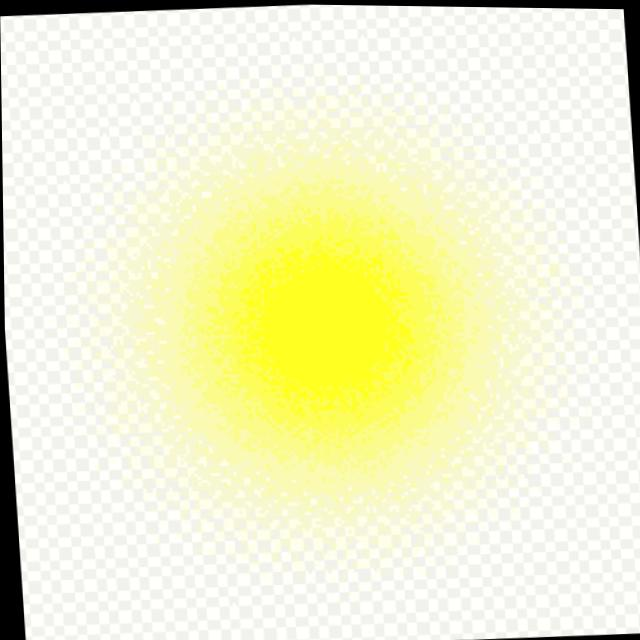yellow_light: (166, 158, 517, 507)
